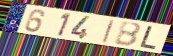1: (57, 12, 72, 38)
4: (69, 15, 91, 41)
6: (24, 9, 46, 33)
B: (113, 21, 142, 48)
I: (100, 19, 116, 44)
L: (138, 25, 158, 51)
